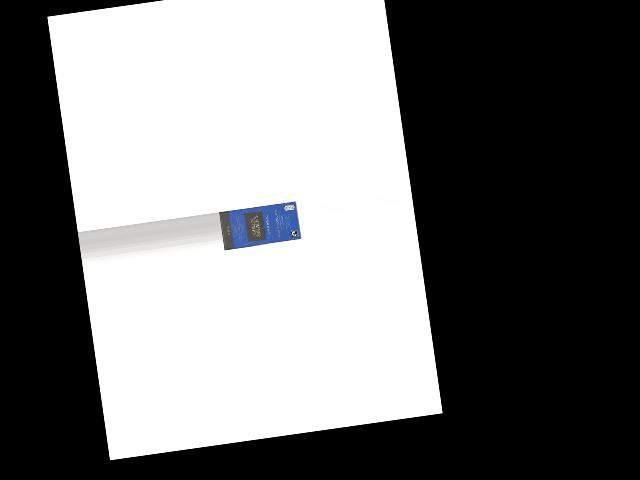chocolate: (219, 200, 300, 250)
